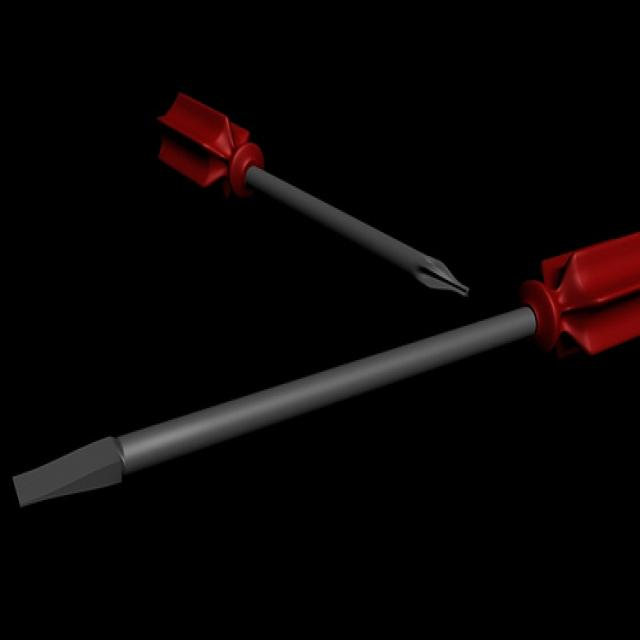screw_driver: (16, 234, 640, 504), (159, 93, 468, 294)
